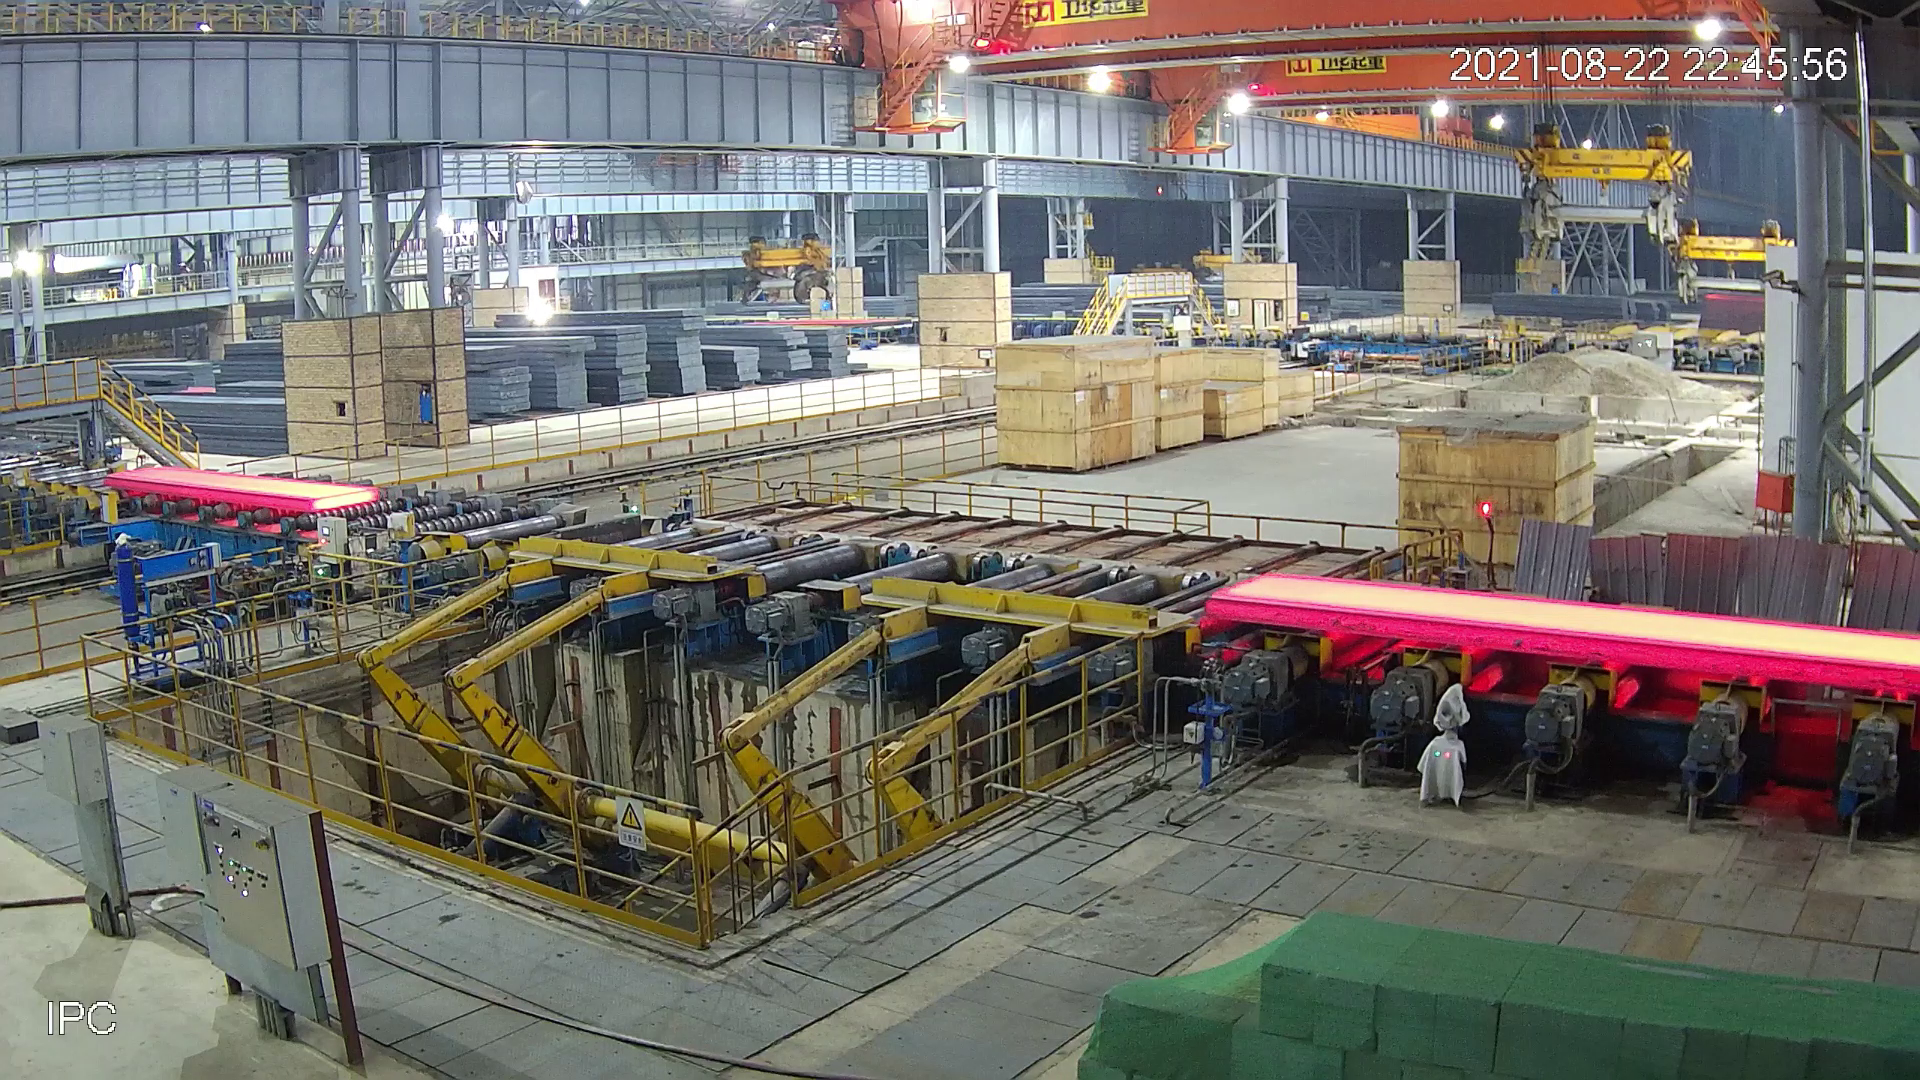slab: (1207, 574, 1920, 694), (105, 465, 377, 509)
